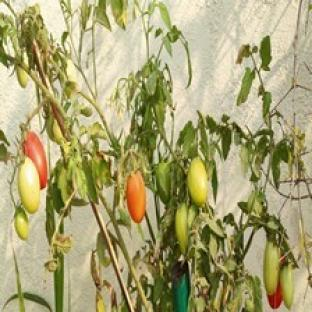Tomato: (23, 131, 47, 189), (19, 158, 40, 213), (126, 172, 146, 222), (187, 158, 207, 206), (264, 241, 279, 295), (156, 162, 171, 204), (176, 204, 188, 254), (280, 264, 293, 309), (14, 208, 29, 240), (268, 282, 282, 309), (16, 66, 29, 87), (66, 59, 76, 83), (189, 205, 197, 229)
